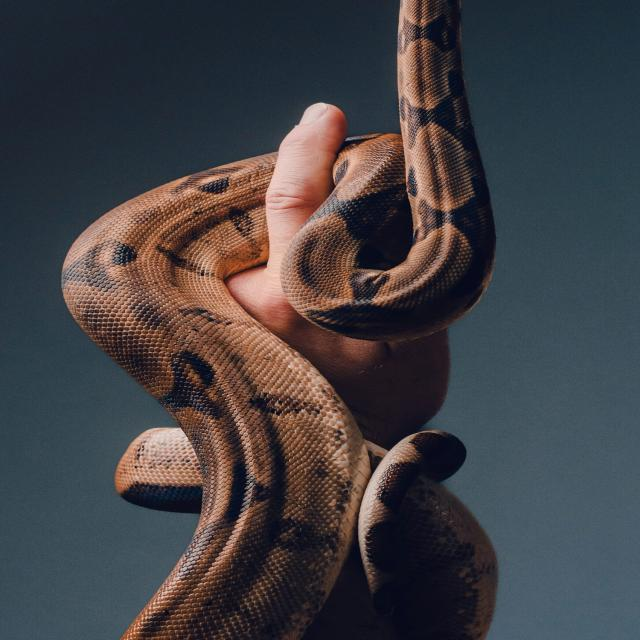Snake: (50, 0, 503, 640)
